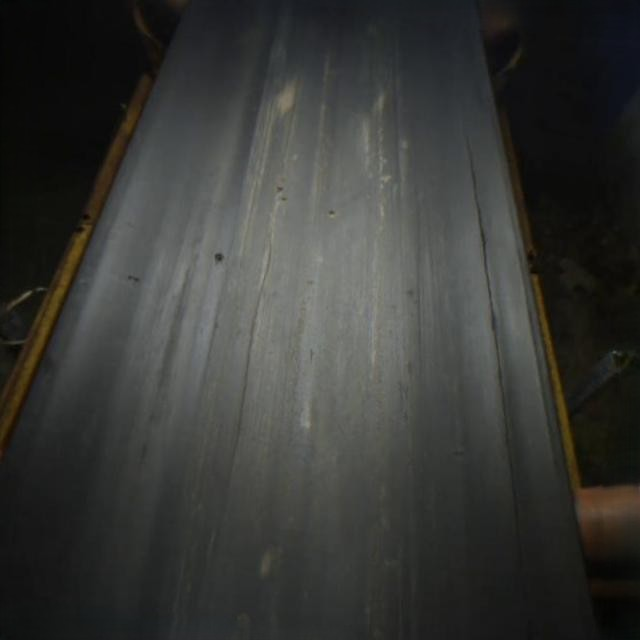Hole: (212, 249, 228, 270)
Puncture: (327, 208, 338, 219), (274, 185, 287, 194), (278, 194, 289, 204)
Tear: (455, 123, 529, 564), (225, 238, 278, 490)
